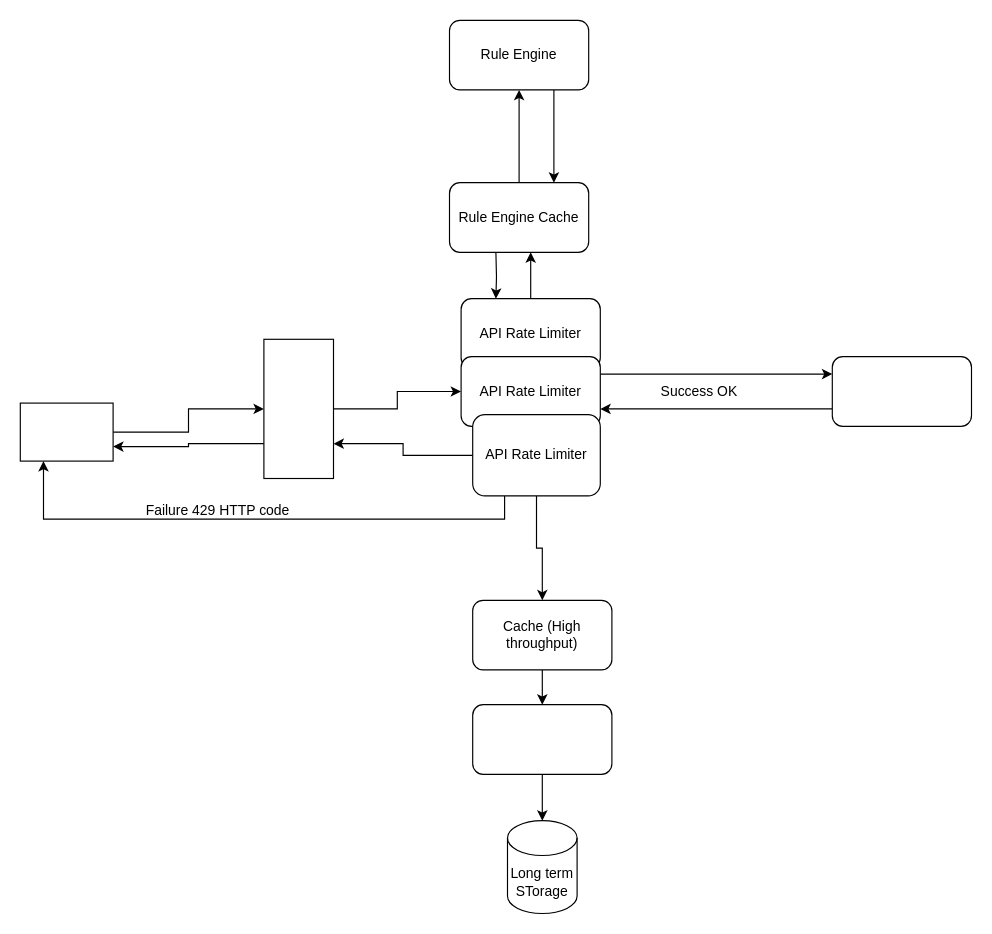
The diagram is 992 pixels wide and 934 high, and some of its shapes have lost their labels. The centre of each missing label's shape, as x and y in pixels:
"Client(s)" belongs at [66,431].
"Load balancer" belongs at [298,408].
"Logging Mechanism" belongs at [542,739].
"Web/Servers/backend" belongs at [901,391].
